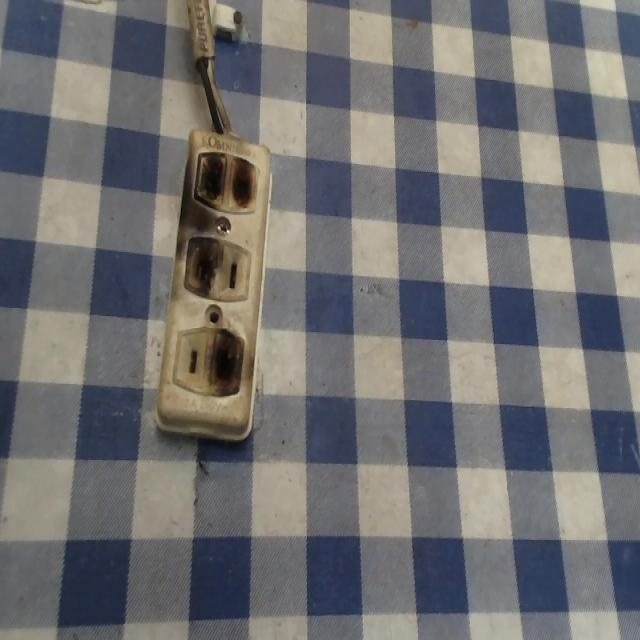-: (184, 148, 270, 221), (175, 233, 226, 304), (209, 329, 251, 404)
